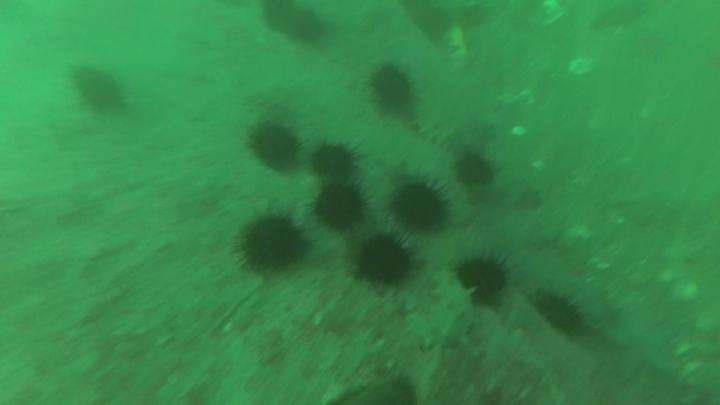echinus: (241, 215, 303, 271), (359, 237, 414, 286), (393, 186, 446, 231), (535, 289, 586, 335), (253, 119, 299, 168), (314, 189, 367, 229), (456, 256, 507, 297), (72, 69, 125, 107), (371, 68, 413, 110), (313, 144, 358, 179), (291, 11, 325, 46), (457, 158, 496, 188)
holothurian: (410, 164, 470, 226), (430, 271, 475, 346), (417, 99, 457, 149)
starfish: (610, 315, 676, 378)
